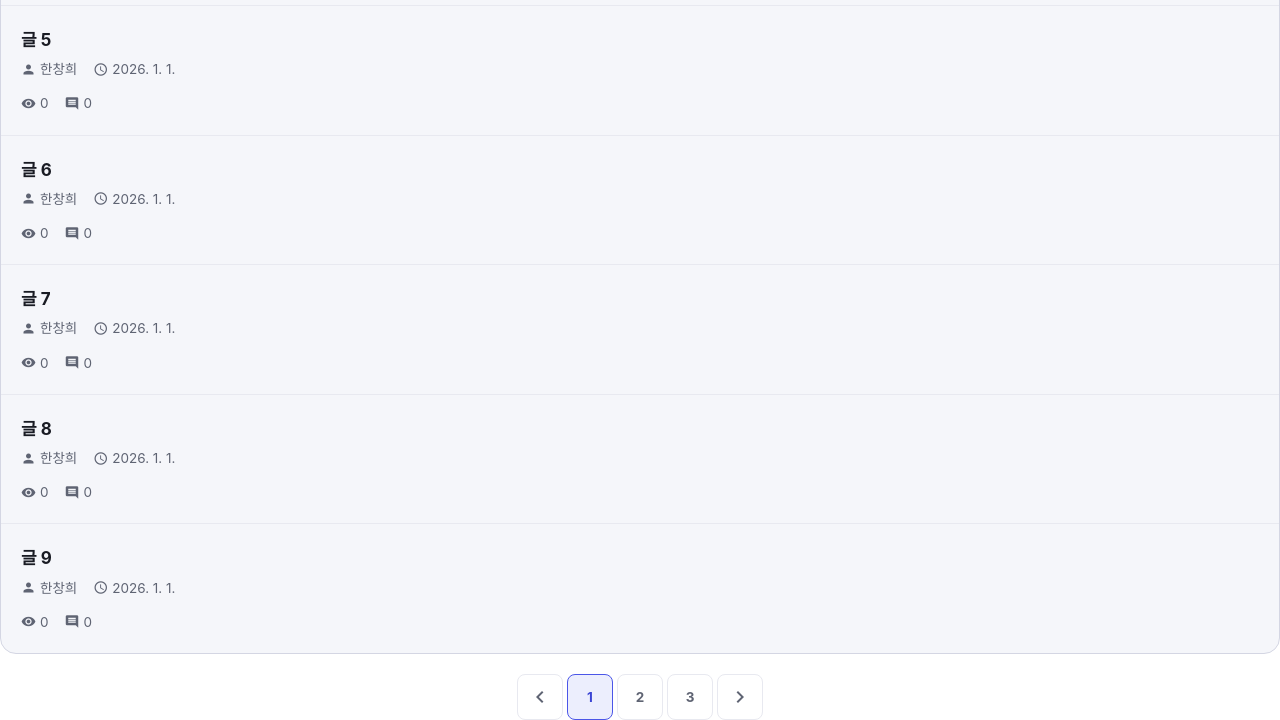
Scenario: 페이지는 주소에서 온다 (L7 · 설계/02 §4) › 페이지 버튼을 누르면 주소가 바뀐다 — 새로고침·뒤로가기가 그 페이지를 복원한다
(page scrolled)
Click the button "2": (640, 697) [617,674,663,719]
(page scrolled)
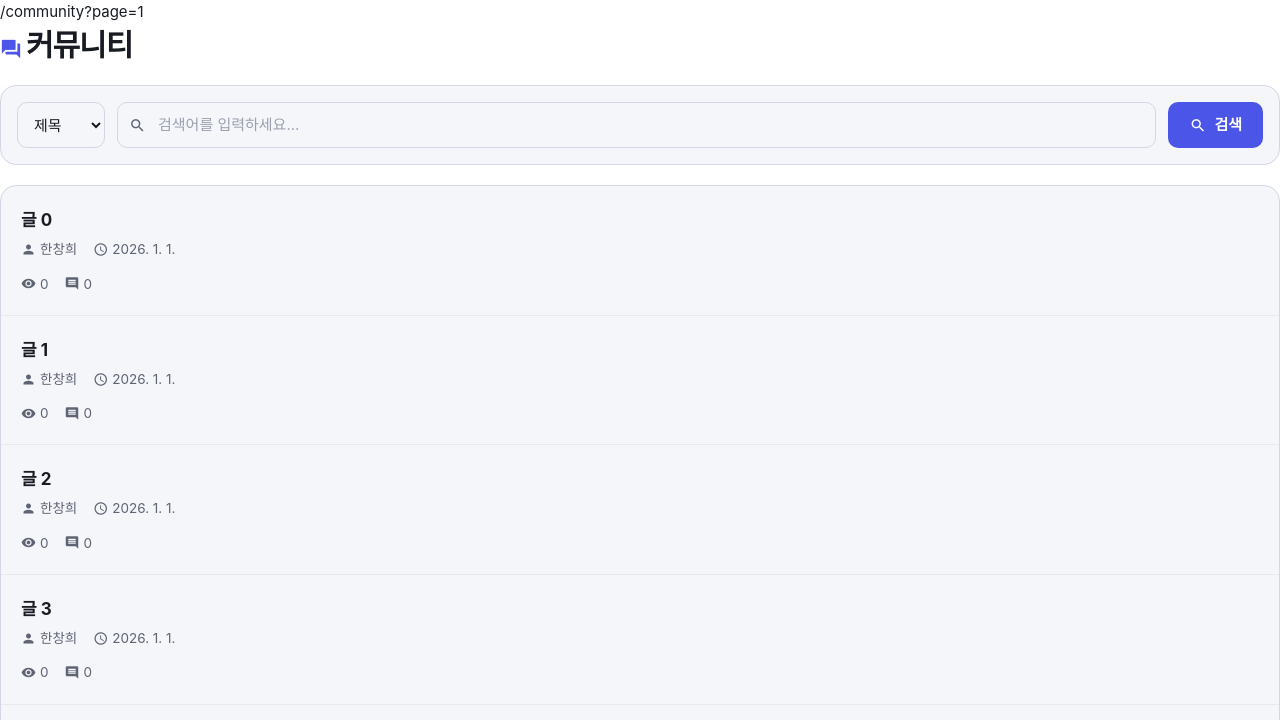
Expected: the text with test id "location" reads "/community?page=1", [84,2,144,21]
